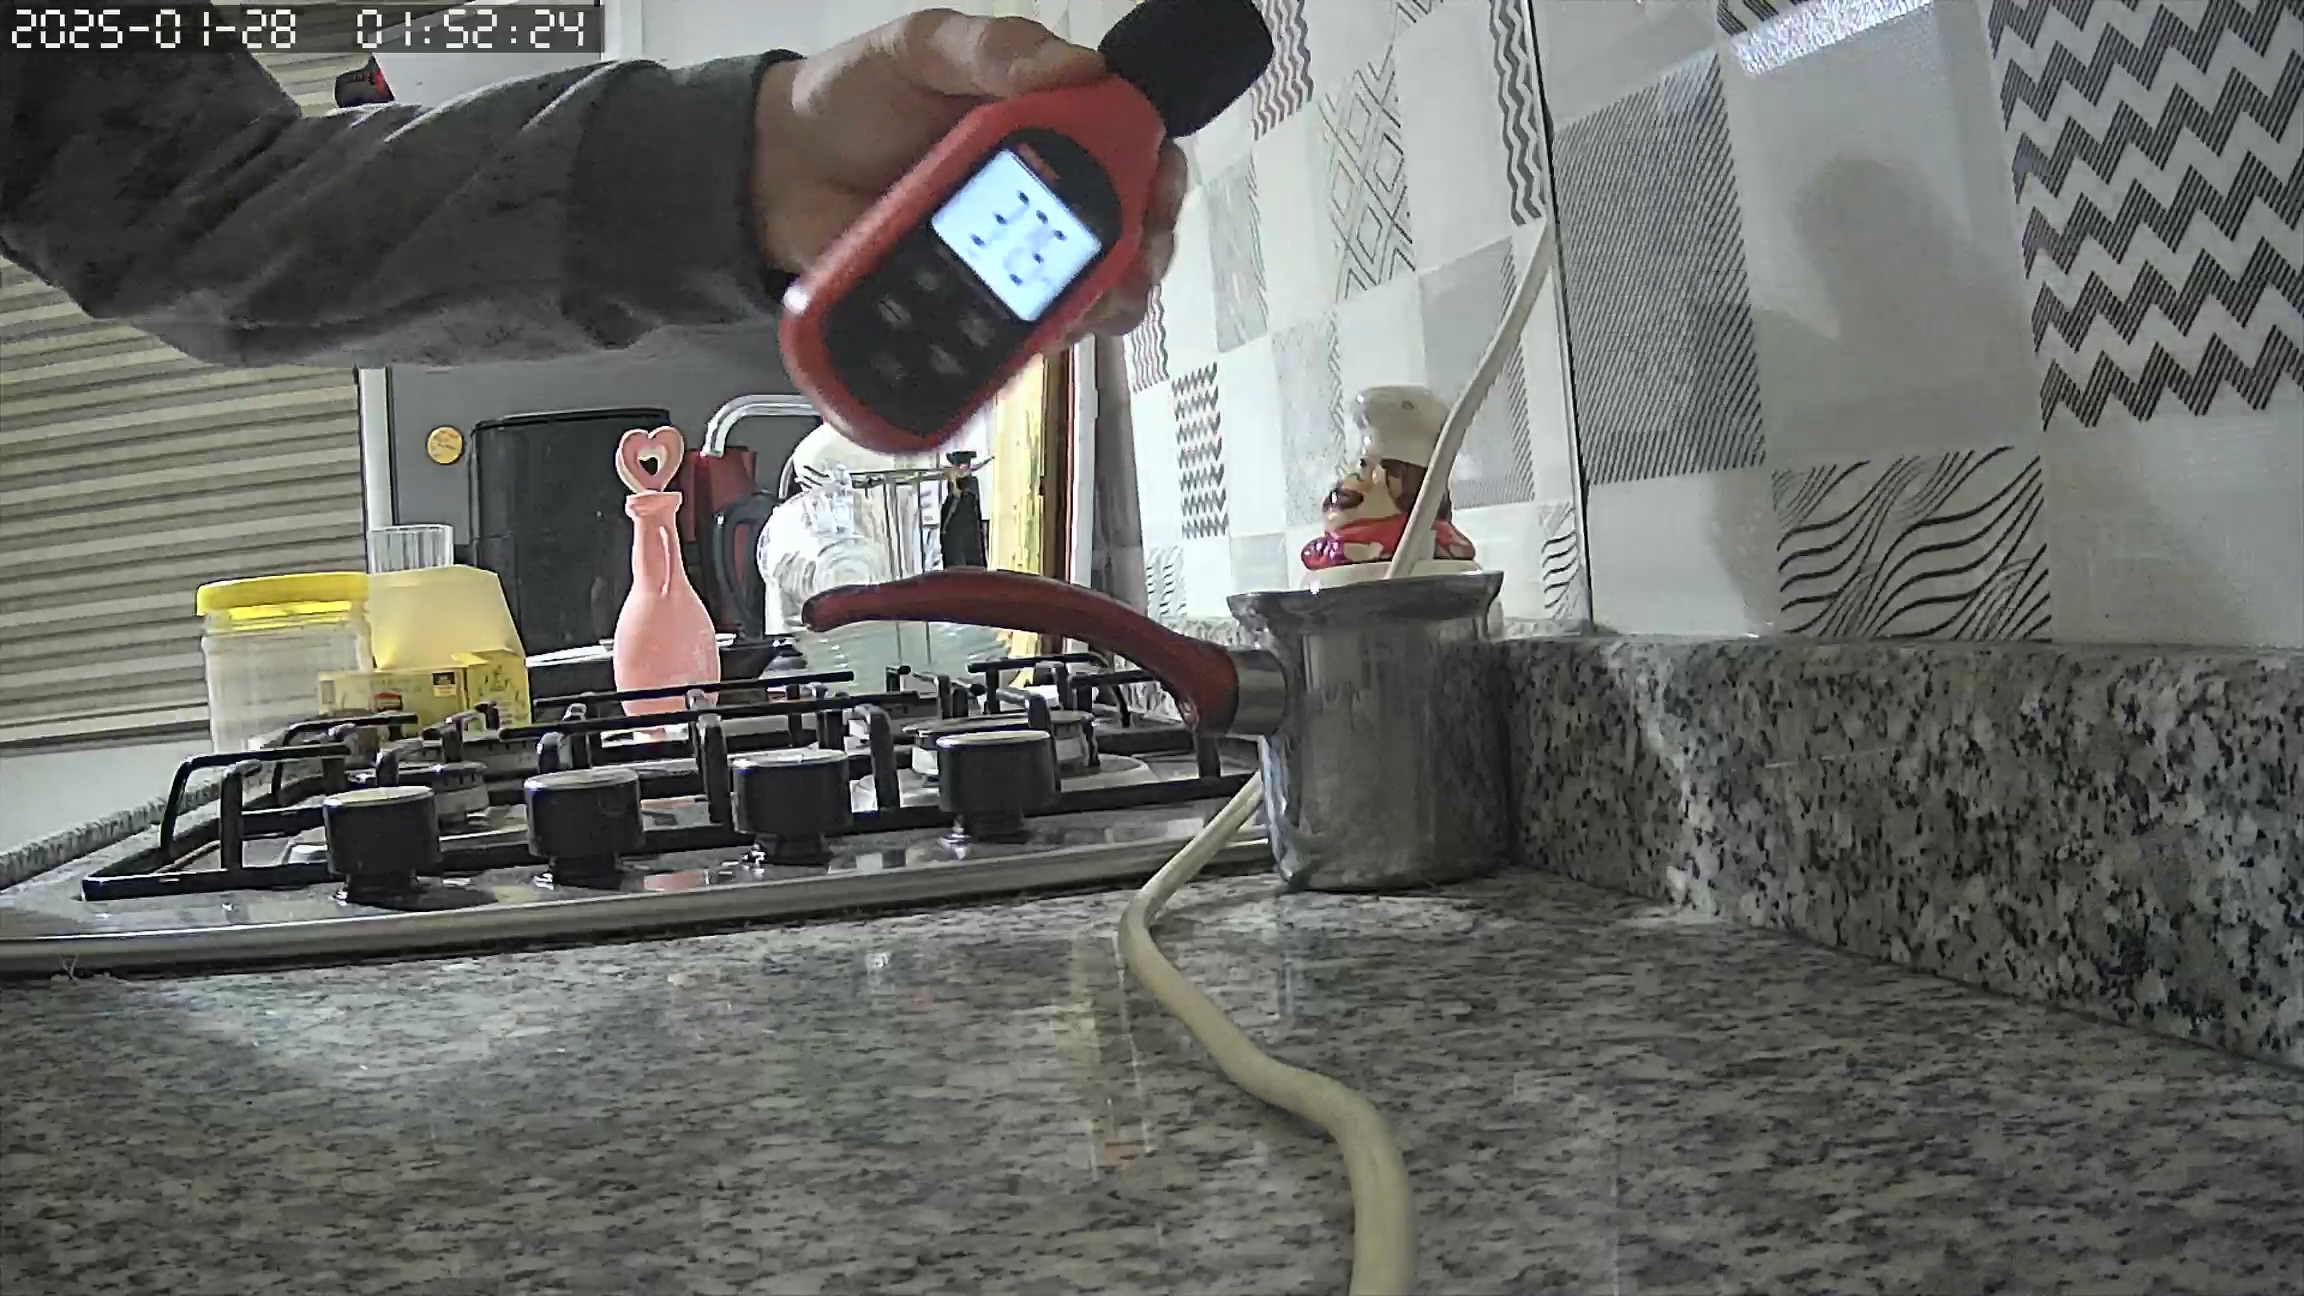screen: (932, 142, 1103, 328)
